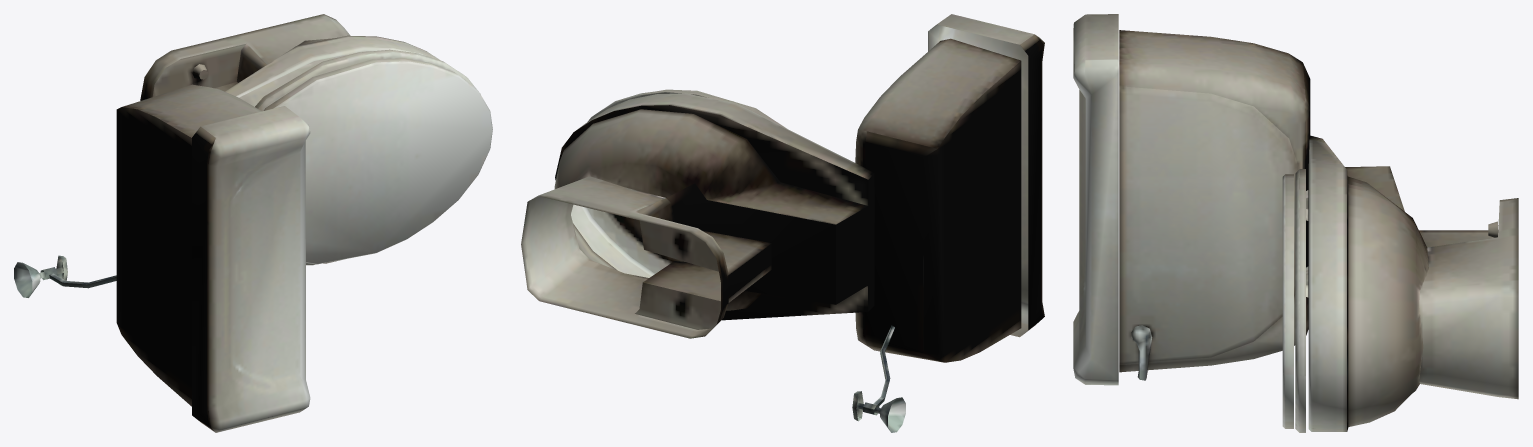
File: toilet.obj
3 views of the same model, side by side, from view 1: azimuth 30°, elevation 25°; view 2: azimuth 150°, elevation 25°; view 3: azimuth 270°, elevation 25° (orthographic). The views are drawn at different scales.
Visible parts, largest first — view 1: toilet.001; view 2: toilet.001; view 3: toilet.001.
Part boxes in pixels (x1,y1,x2,y2): toilet.001: [14, 14, 492, 432]; toilet.001: [521, 14, 1044, 432]; toilet.001: [1073, 14, 1518, 432].
Bounding box in the file's own units: 40.96 × 29.19 × 36.15.
1 material, 1 textured.
